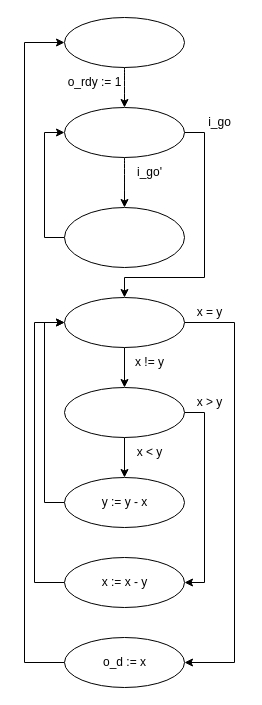
This 262x705 diagram has some shape labels left out. Here are the shapes that lost their labels. From the top down, the centre of each, then its label:
pixel 124 42: Ínicio
pixel 124 237: i_x := x i_y := y o_rdy := 0
